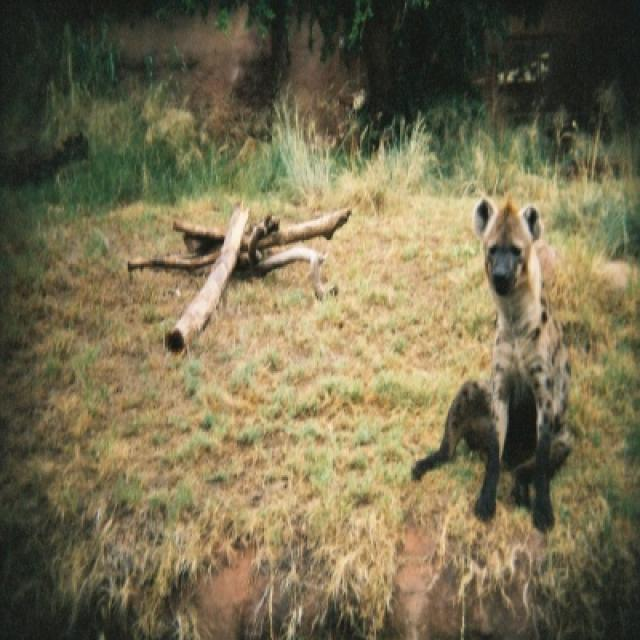hyena: (410, 198, 573, 536)
